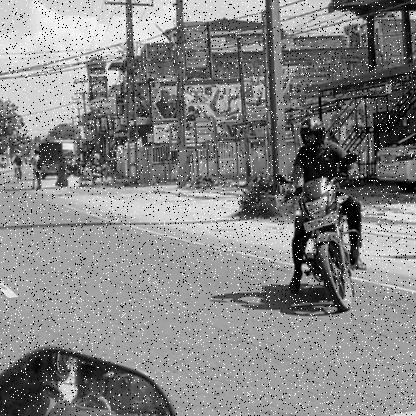motorcycle: (280, 176, 374, 316)
